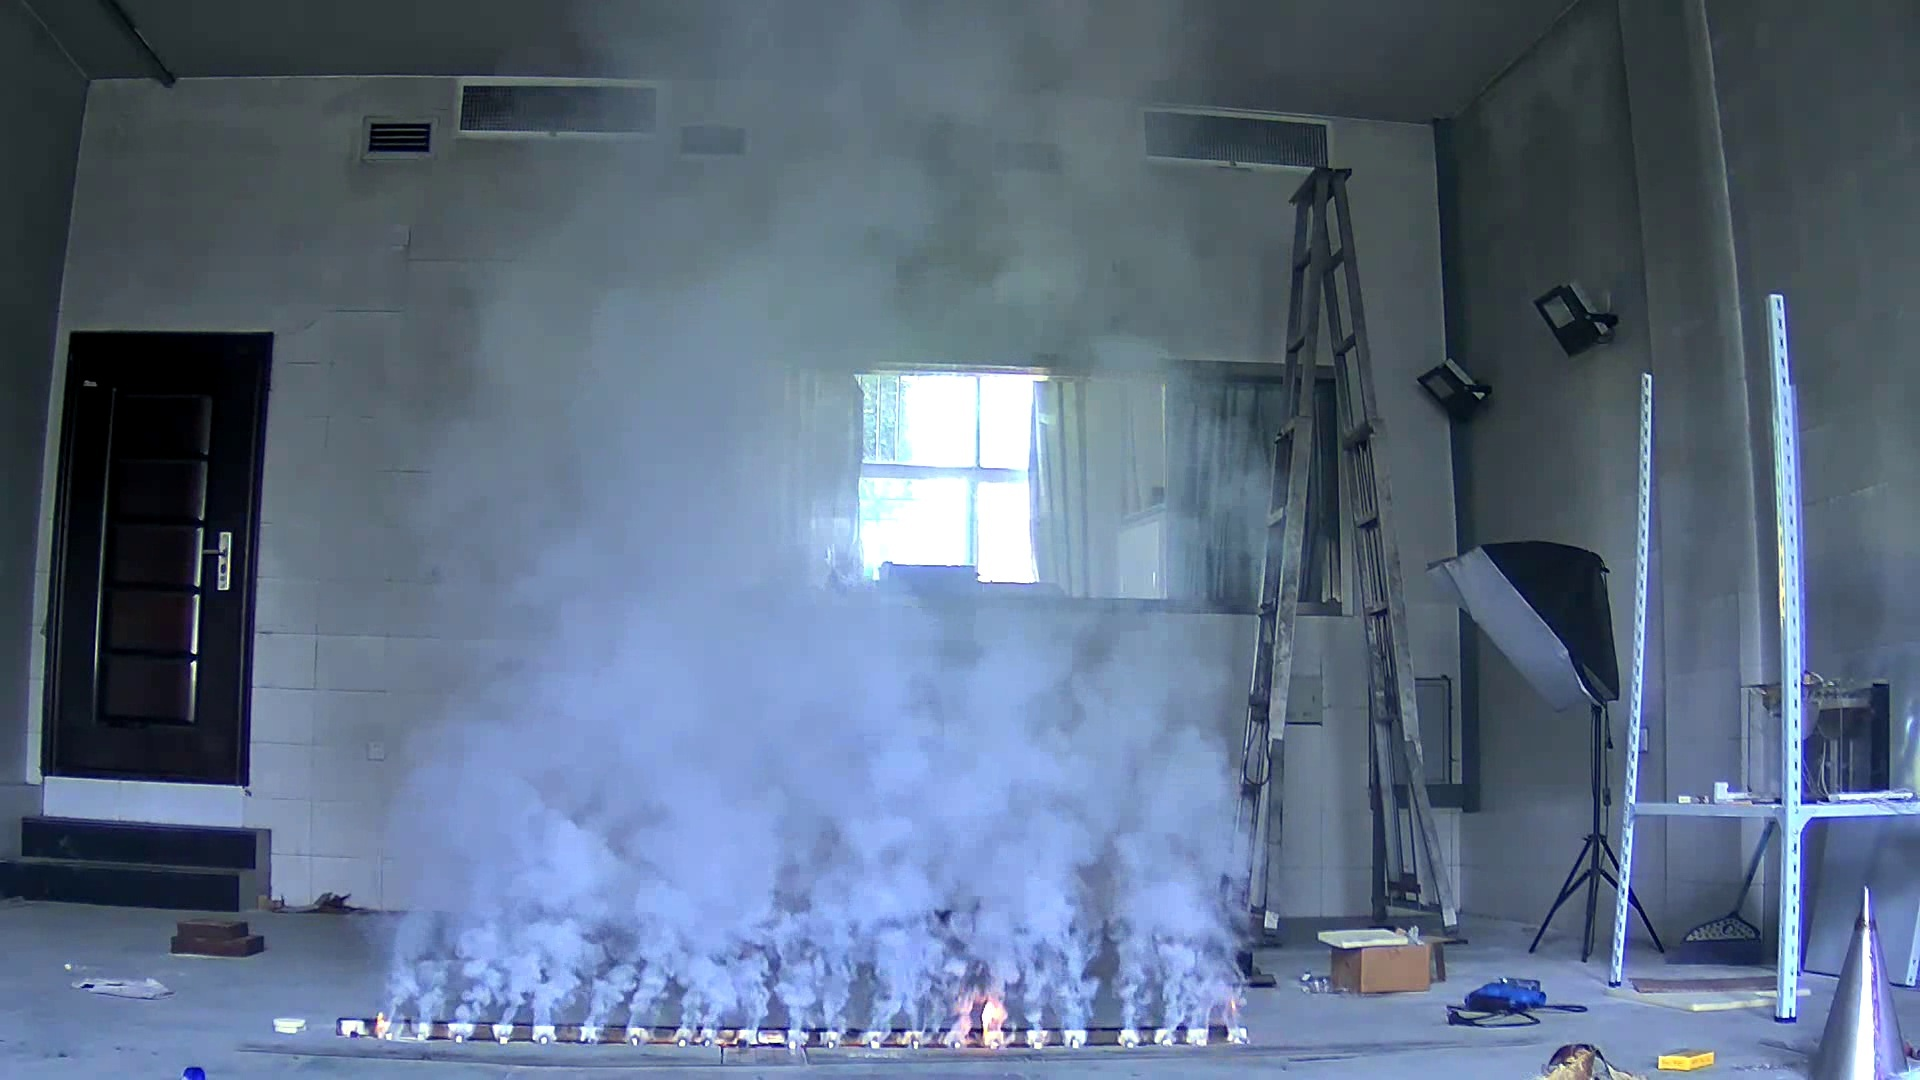smoke: (373, 458, 1258, 1029)
